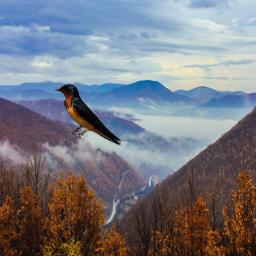Swallow: (54, 84, 121, 146)
